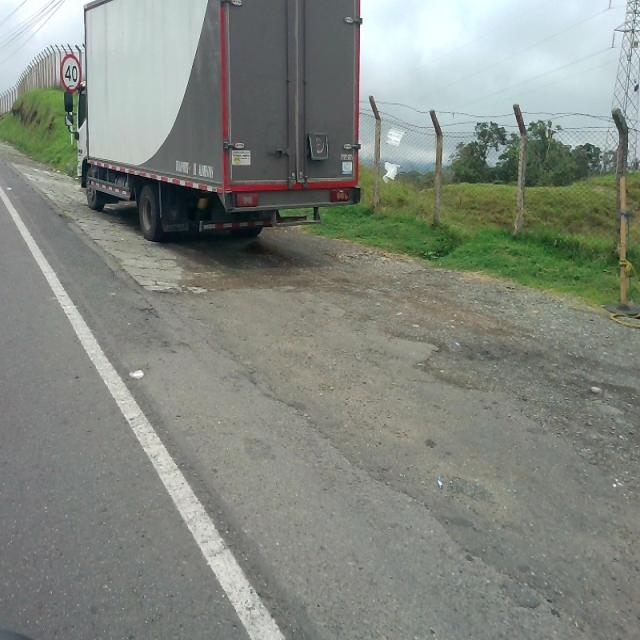DITCH: (4, 150, 638, 638)
